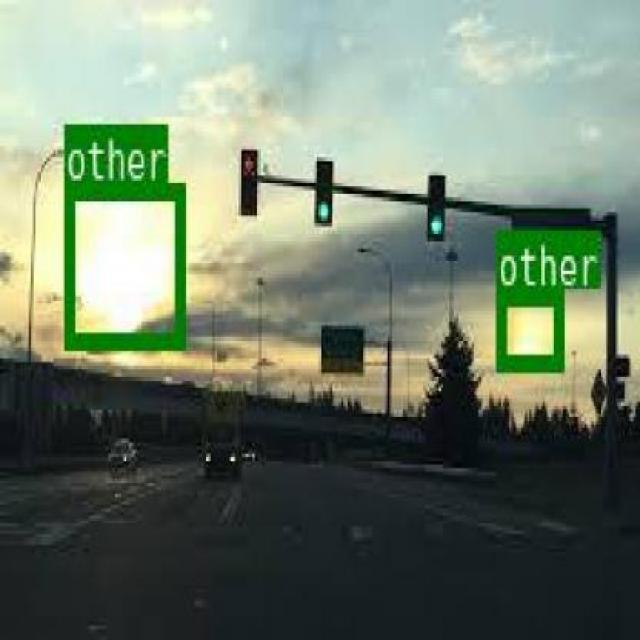other: (63, 179, 183, 347), (494, 286, 562, 366)
